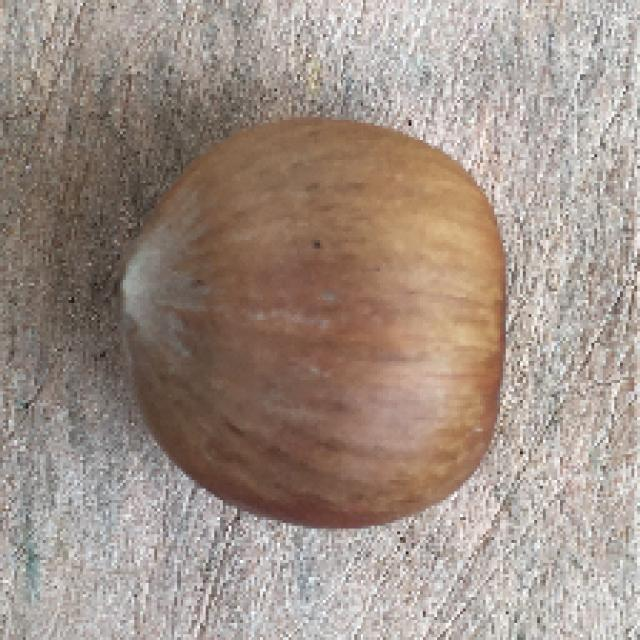DamagedHazelnut: (108, 125, 508, 529)
